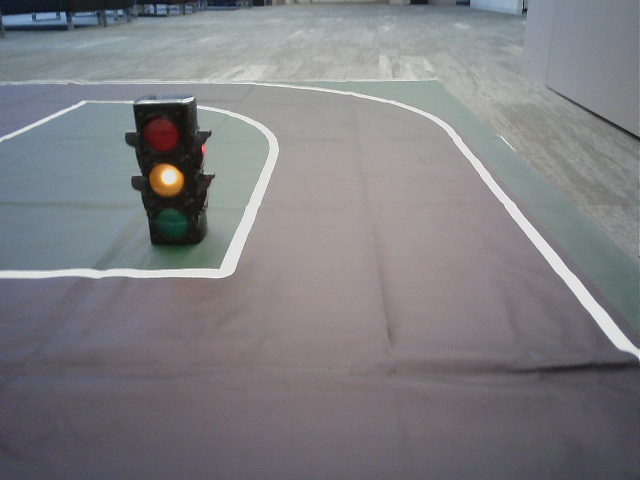yellow: (138, 111, 194, 238)
